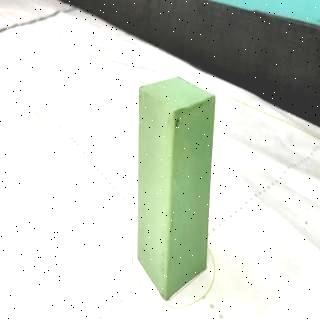greenbox: (137, 74, 215, 301)
